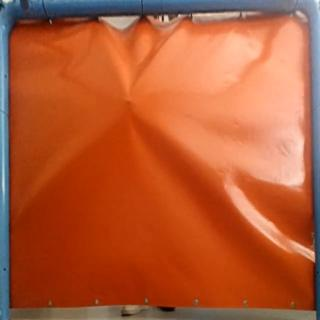Hit-hRxx: (121, 91, 138, 107)
